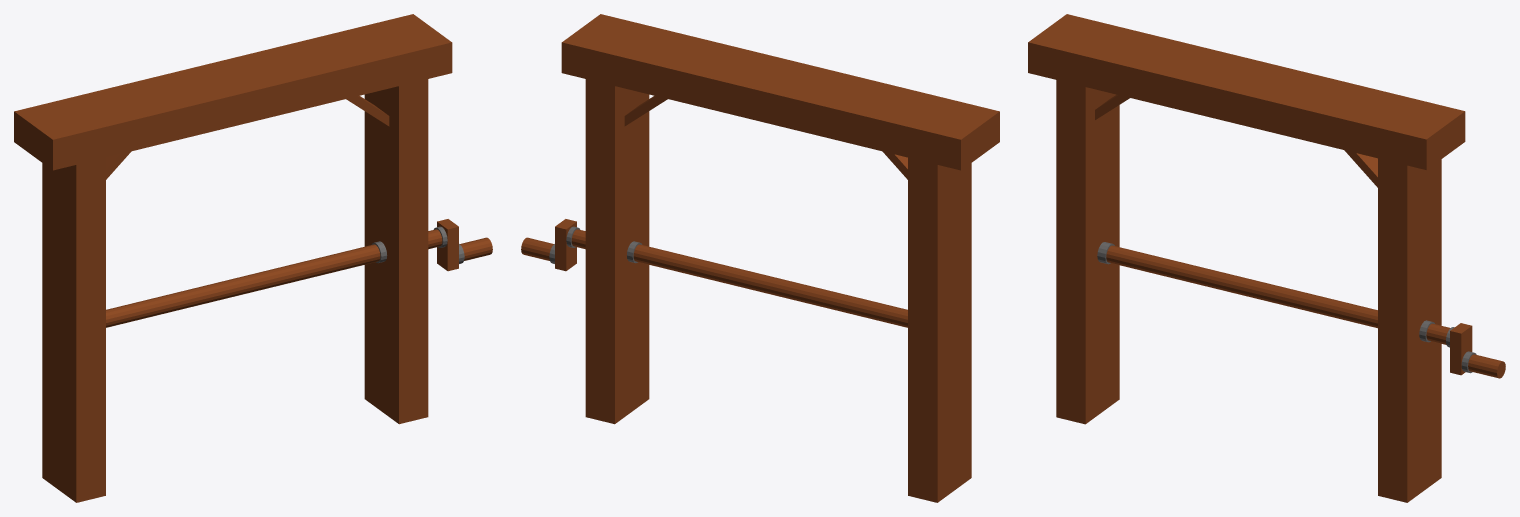
Rendered from Well2.fbx.
3 renders of one model, left to right at view 1: azimuth 30°, elevation 25°; view 2: azimuth 150°, elevation 25°; view 3: azimuth 330°, elevation 25°, orthographic.
Parts seen in each view (by area): view 1: WellSupport, WellSpinner; view 2: WellSupport, WellSpinner; view 3: WellSupport, WellSpinner.
Boxes of the visible parts, x1,y1,x2,y2 form: WellSupport: (14,14,452,502); WellSpinner: (106,219,492,327); WellSupport: (561,14,999,502); WellSpinner: (521,219,907,327); WellSupport: (1028,14,1465,502); WellSpinner: (1097,242,1505,378).
Bounding box in the file's own units: 341 × 266 × 50.33.
